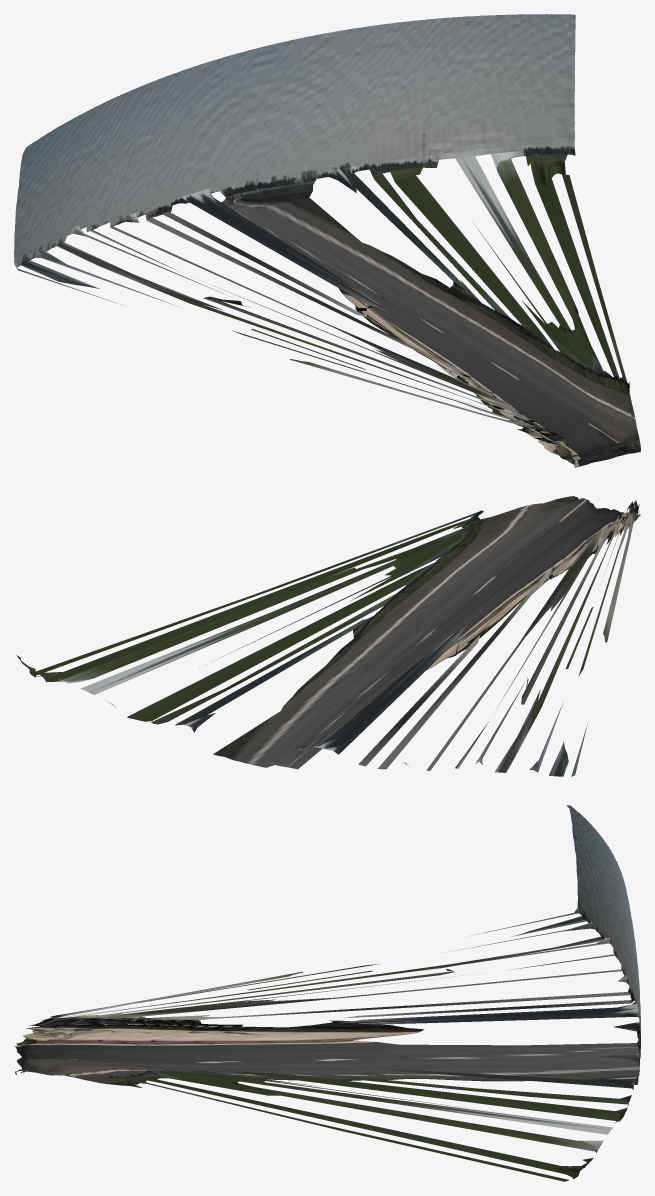
3 views of the same model, one above another, from view 1: azimuth 30°, elevation 25°; view 2: azimuth 150°, elevation 25°; view 3: azimuth 270°, elevation 25° (orthographic). The views are drawn at different scales.
Visible parts, largest first — view 1: defaultobject; view 2: defaultobject; view 3: defaultobject.
Part boxes in pixels (x1,y1,x2,y2): defaultobject: (14, 14, 640, 467); defaultobject: (16, 496, 640, 776); defaultobject: (14, 805, 640, 1181).
Size of the model in its own units: 41.16 by 11.82 by 44.54.
1 material, 1 textured.
